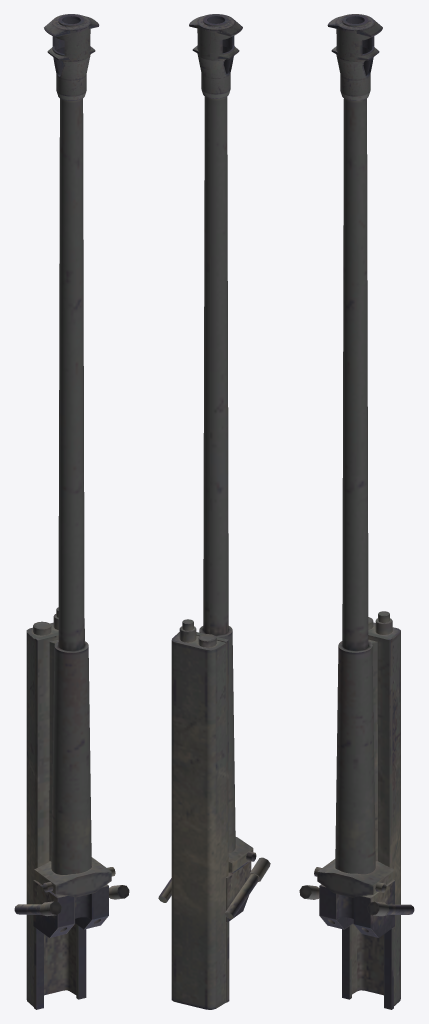
The model's file is Gun_01.glb.
3 renders of one model, left to right at view 1: azimuth 30°, elevation 25°; view 2: azimuth 150°, elevation 25°; view 3: azimuth 330°, elevation 25°, orthographic. The views are drawn at different scales.
Parts seen in each view (by area): view 1: set_0_group_0; view 2: set_0_group_0; view 3: set_0_group_0.
Boxes of the visible parts, <box> form: set_0_group_0: <box>14,14,129,1009</box>; set_0_group_0: <box>158,14,270,1009</box>; set_0_group_0: <box>299,14,414,1009</box>.
Bounding box in the file's own units: 0.3908 × 4.63 × 0.3732.
1 material, 1 textured.
